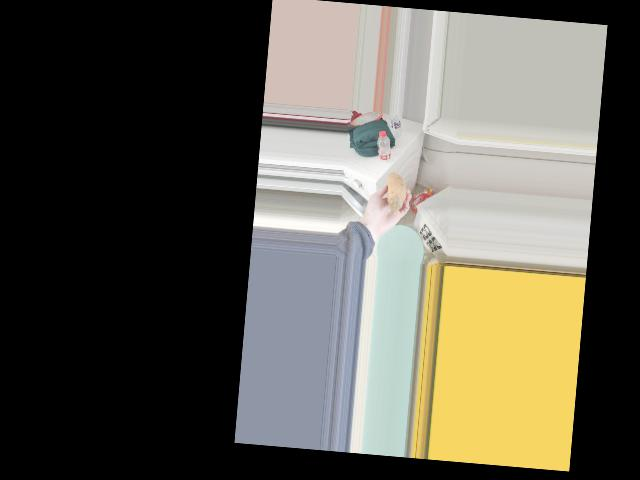sweet_potato: (381, 169, 405, 217)
